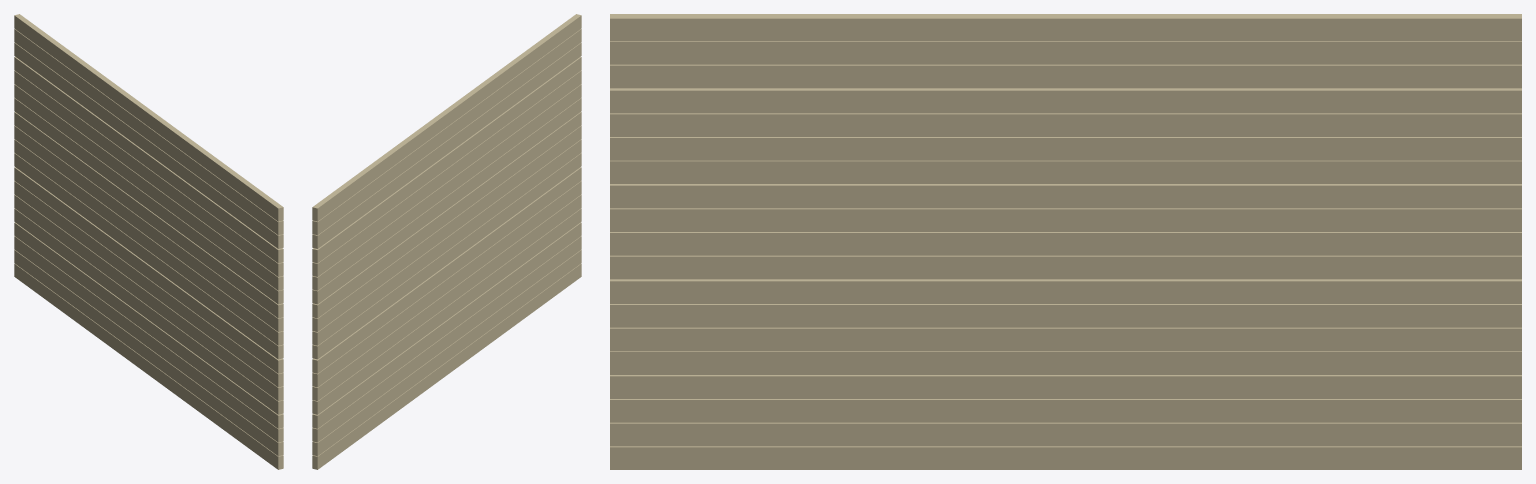
File: dooronly.glb
3 renders of one model, left to right at view 1: azimuth 30°, elevation 25°; view 2: azimuth 150°, elevation 25°; view 3: azimuth 270°, elevation 25°, orthographic. The views are drawn at different scales.
Visible parts, largest first — view 1: Cube.016, Cube.015, Cube.004, Cube.003, Cube.011, Cube.013, Cube.001, Cube.009, Cube.018, Cube.006, Cube, Cube.005 (+7 smaller); view 2: Cube.016, Cube.015, Cube.004, Cube.003, Cube.011, Cube.013, Cube.001, Cube.009, Cube.018, Cube.006, Cube, Cube.005 (+7 smaller); view 3: Cube.016, Cube.015, Cube.001, Cube.004, Cube.006, Cube.008, Cube.011, Cube.018, Cube, Cube.002, Cube.003, Cube.005 (+7 smaller).
Boxes of the visible parts, <box> form: Cube.016: <box>14,14,283,221</box>; Cube.015: <box>14,56,283,263</box>; Cube.004: <box>14,167,283,373</box>; Cube.003: <box>14,222,283,428</box>; Cube.011: <box>14,112,283,318</box>; Cube.013: <box>14,84,283,290</box>; Cube.001: <box>14,250,283,456</box>; Cube.009: <box>14,139,283,345</box>; Cube.018: <box>14,42,283,248</box>; Cube.006: <box>14,194,283,400</box>; Cube: <box>14,263,283,469</box>; Cube.005: <box>14,181,283,387</box>; Cube.016: <box>312,14,581,221</box>; Cube.015: <box>312,56,581,263</box>; Cube.004: <box>312,167,581,373</box>; Cube.003: <box>312,222,581,428</box>; Cube.011: <box>312,112,581,318</box>; Cube.013: <box>312,84,581,290</box>; Cube.001: <box>312,250,581,456</box>; Cube.009: <box>312,139,581,345</box>; Cube.018: <box>312,42,581,248</box>; Cube.006: <box>312,194,581,400</box>; Cube: <box>312,263,581,469</box>; Cube.005: <box>312,181,581,387</box>; Cube.016: <box>610,14,1521,41</box>; Cube.015: <box>610,88,1521,113</box>; Cube.001: <box>610,422,1521,446</box>; Cube.004: <box>610,279,1521,303</box>; Cube.006: <box>610,327,1521,351</box>; Cube.008: <box>610,255,1521,279</box>; Cube.011: <box>610,184,1521,208</box>; Cube.018: <box>610,64,1521,88</box>; Cube: <box>610,446,1521,469</box>; Cube.002: <box>610,399,1521,422</box>; Cube.003: <box>610,375,1521,398</box>; Cube.005: <box>610,304,1521,327</box>.
Size of the model in its own units: 0.0552 by 2.57 by 4.71.
